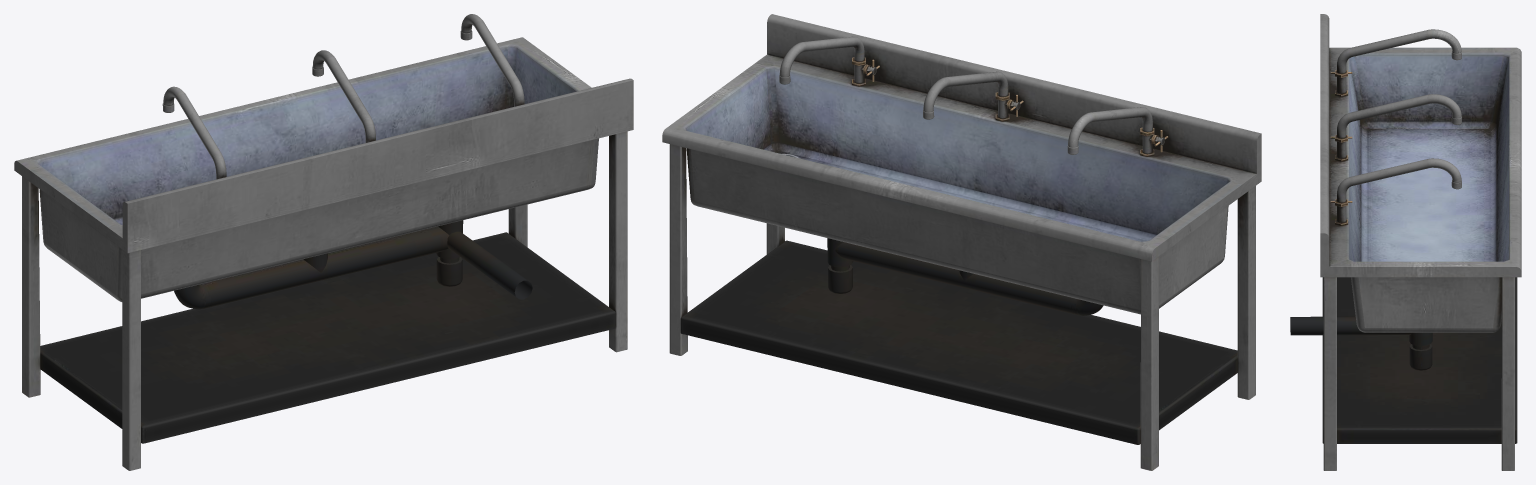
File: fregadero.glb
3 views of the same model, side by side, from view 1: azimuth 30°, elevation 25°; view 2: azimuth 150°, elevation 25°; view 3: azimuth 270°, elevation 25° (orthographic). The views are drawn at different scales.
Parts seen in each view (by area): view 1: fregadero; view 2: fregadero; view 3: fregadero.
Boxes of the visible parts, left/top/right/bottom form: fregadero: left=14, top=14, right=633, bottom=470; fregadero: left=662, top=14, right=1261, bottom=470; fregadero: left=1290, top=14, right=1521, bottom=470.
Size of the model in its own units: 1.58 by 0.92 by 0.7043.
Materials: 1 (1 with a texture image).
